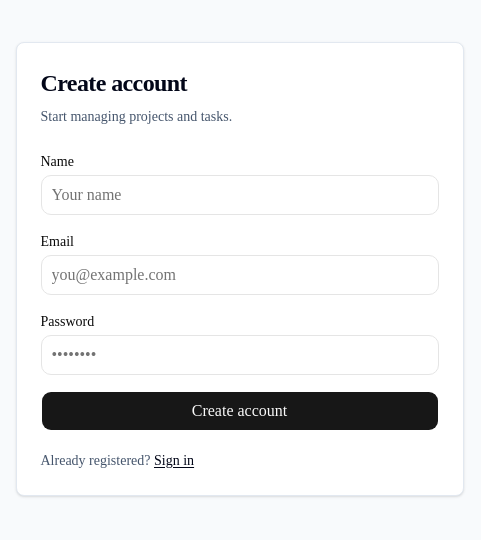
Scenario: RegisterForm › shows root error when registration fails
In the field labelled "Name": (240, 195) [40,175,438,215], type "Steve"
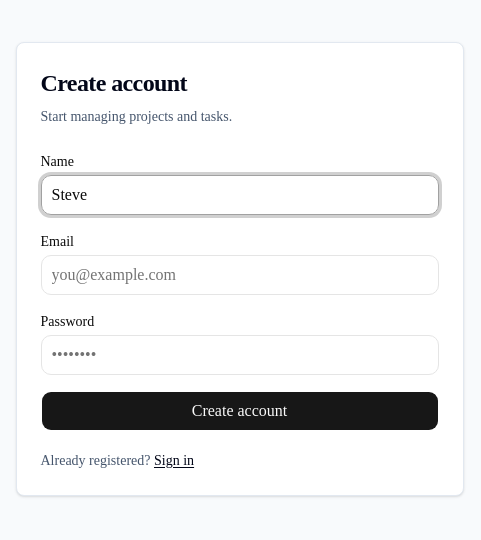
In the field labelled "Email": (240, 275) [40,255,438,295], type "steve@example.com"
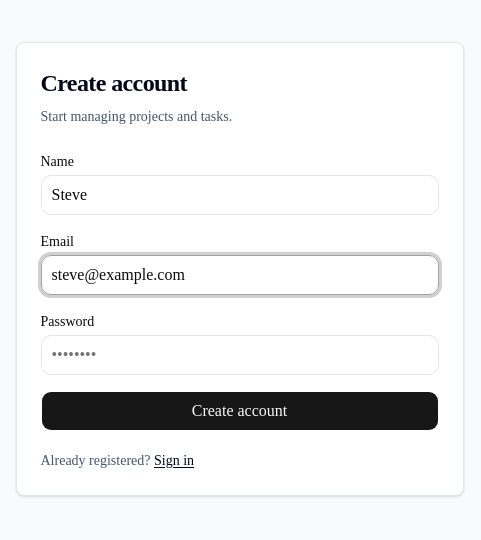
In the password field labelled "Password": (240, 355) [40,335,438,375], type "Validpass1"
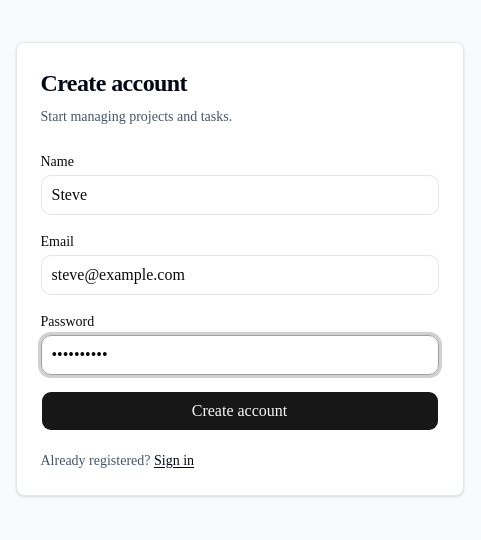
Click the button "Create account": (240, 411) [40,391,438,431]
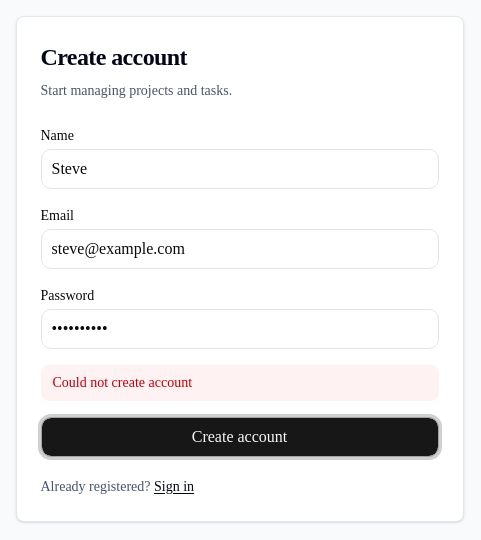
Check: the text "Could not create account" is shown, box [40,365,438,401]
